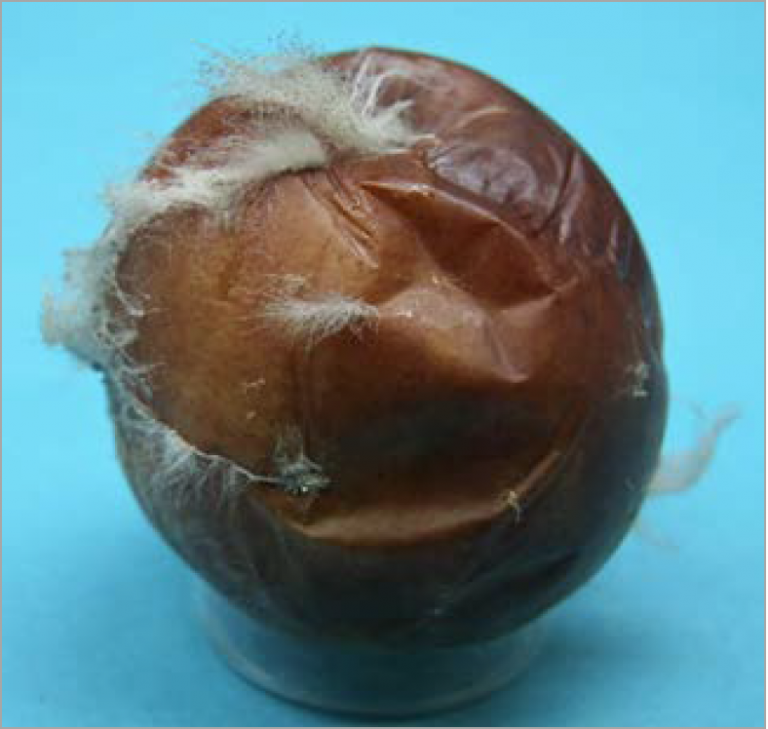Mucor: (209, 43, 417, 172), (124, 403, 321, 524), (47, 244, 139, 370), (265, 284, 373, 341)
